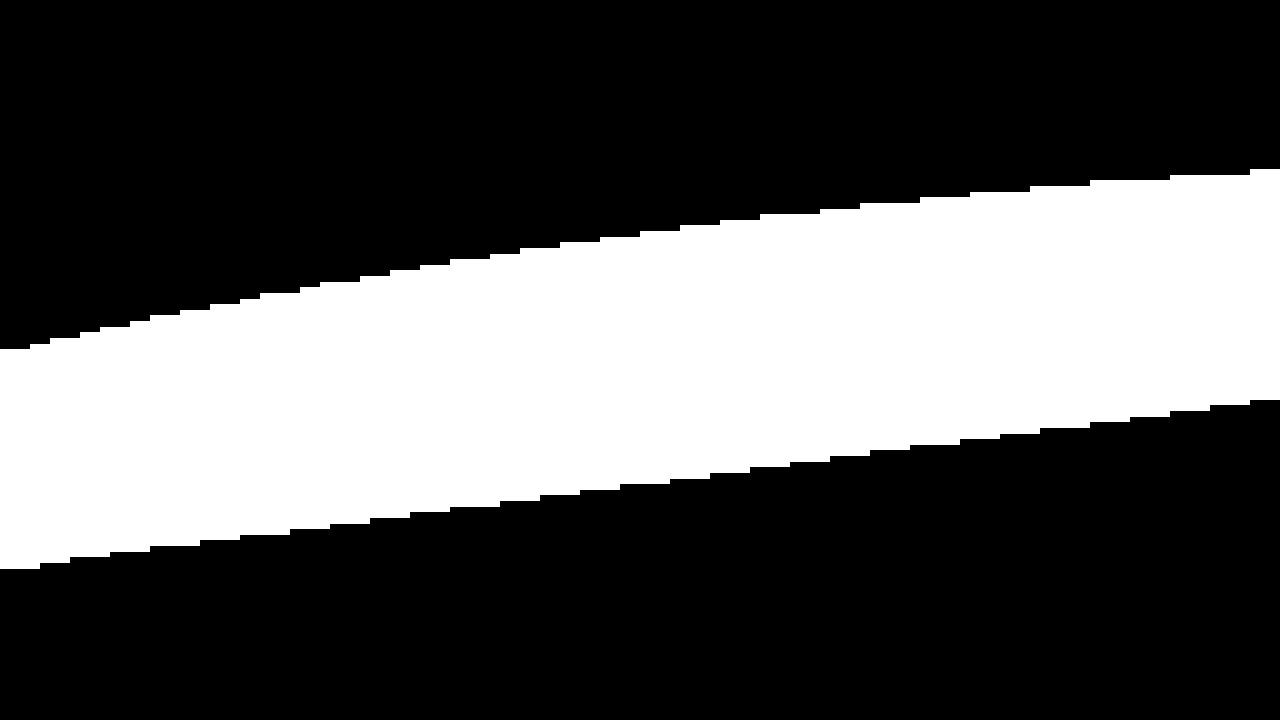Turbine: (0, 139, 1274, 601)
